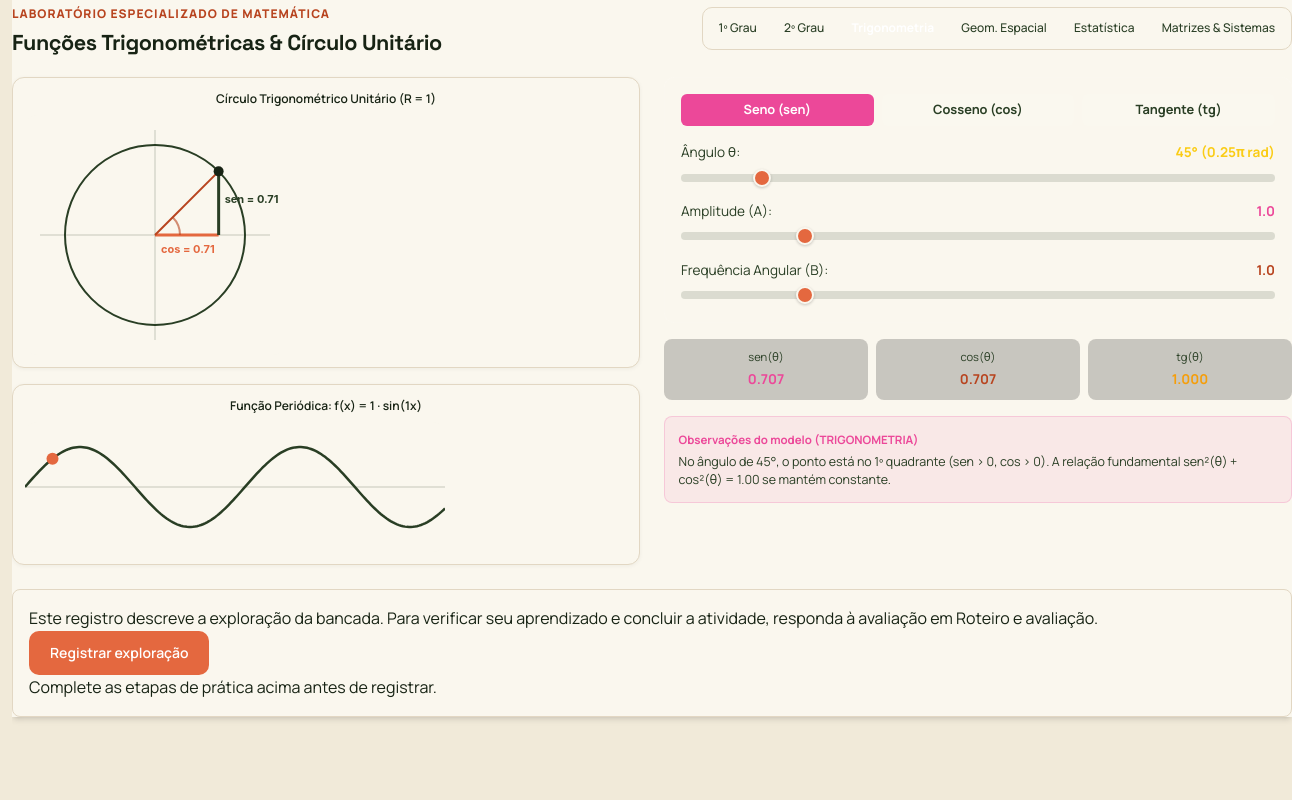
it: MathSimulator - 6 Unique Specialized Laboratories Suite › 3. Trigonometric Mode renders Unit Circle, Sine, Cosine, and Tangent
Expected: the heading "Funções Trigonométricas & Círculo Unitário" is shown, [12,29,442,57]
Expected: the text "Círculo Trigonométrico Unitário (R = 1)" is shown, [216,90,436,107]
Set the slider below "Ângulo θ:" to "2" at (692, 178), box [681,174,1275,182]
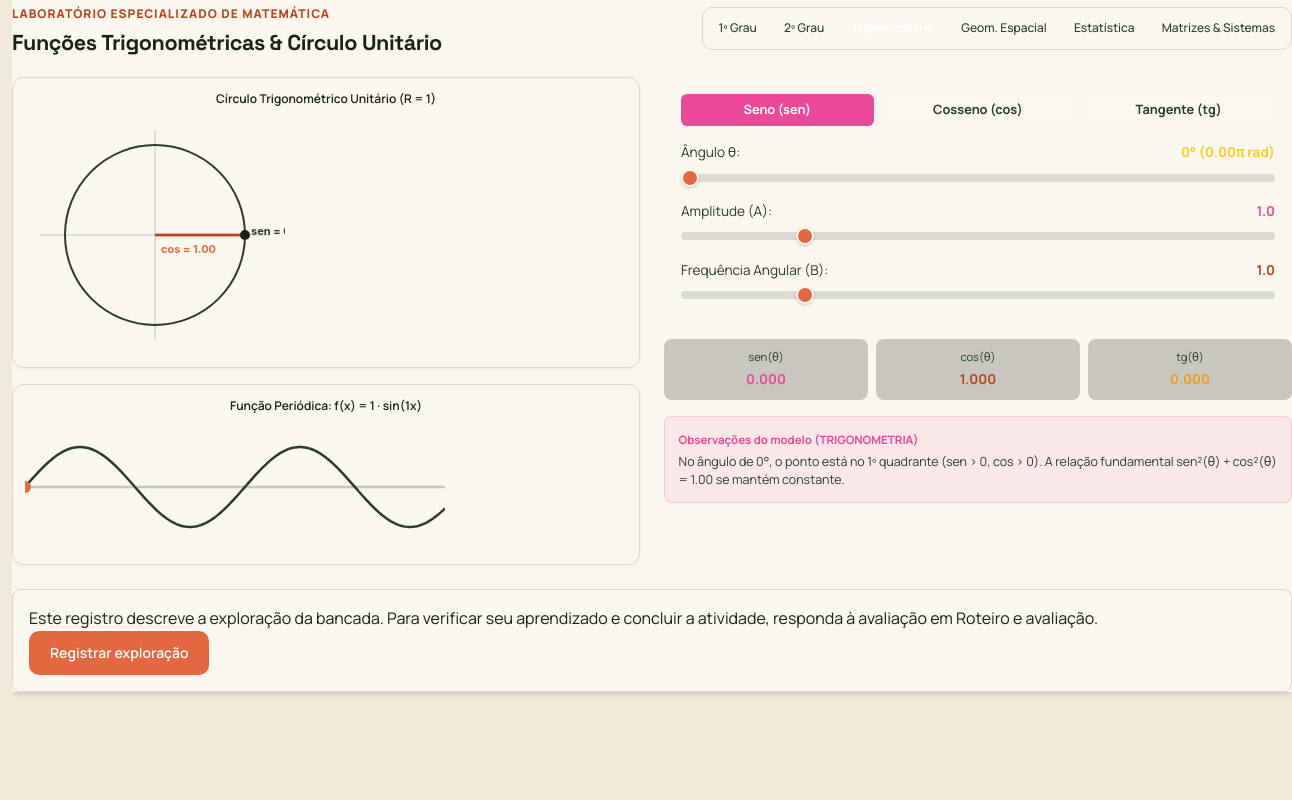
Click the button "Registrar exploração" at (119, 653), box [29,631,210,675]
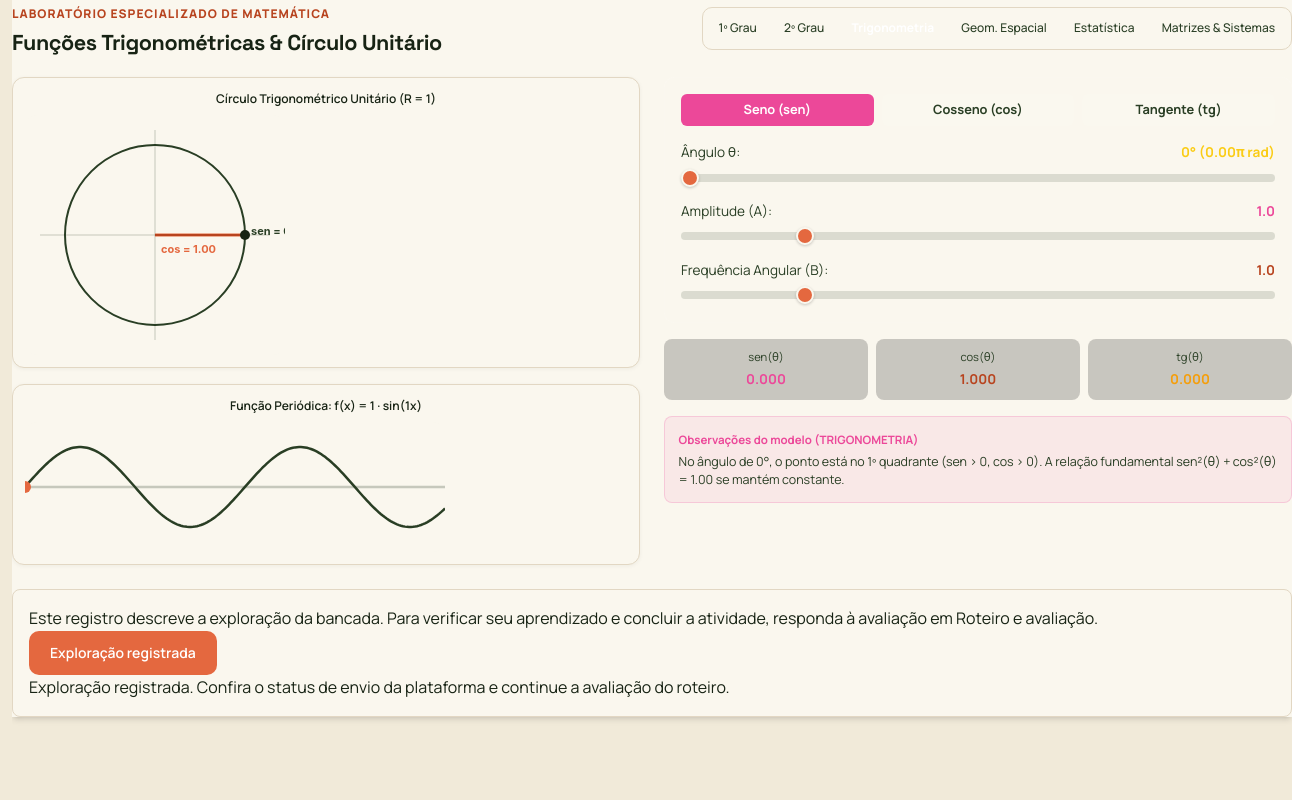
Result: the button "Exploração registrada" is shown at [29,631,217,675]
